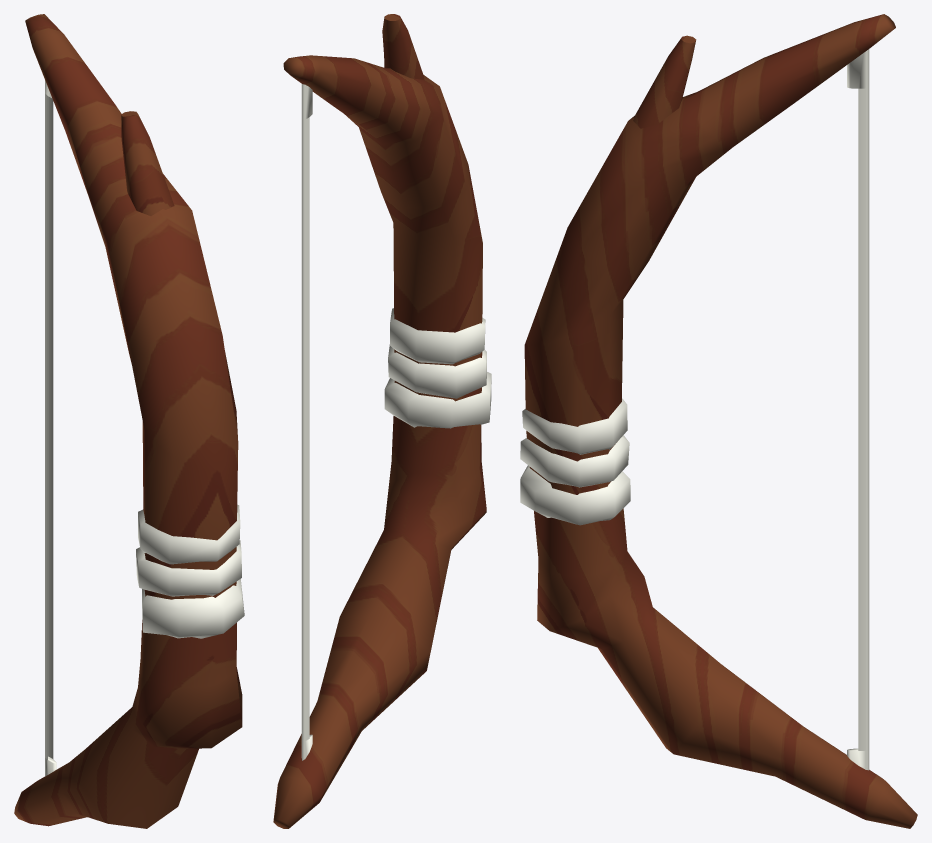
File: BowD.fbx
3 views of the same model, side by side, from view 1: azimuth 30°, elevation 25°; view 2: azimuth 150°, elevation 25°; view 3: azimuth 270°, elevation 25° (orthographic). The views are drawn at different scales.
Visible parts, largest first — view 1: Bow D; view 2: Bow D; view 3: Bow D.
Boxes of the visible parts, x1,y1,x2,y2 form: Bow D: [14, 14, 244, 828]; Bow D: [273, 14, 491, 828]; Bow D: [520, 14, 917, 828].
Size of the model in its own units: 0.1691 by 1.26 by 0.5594.
